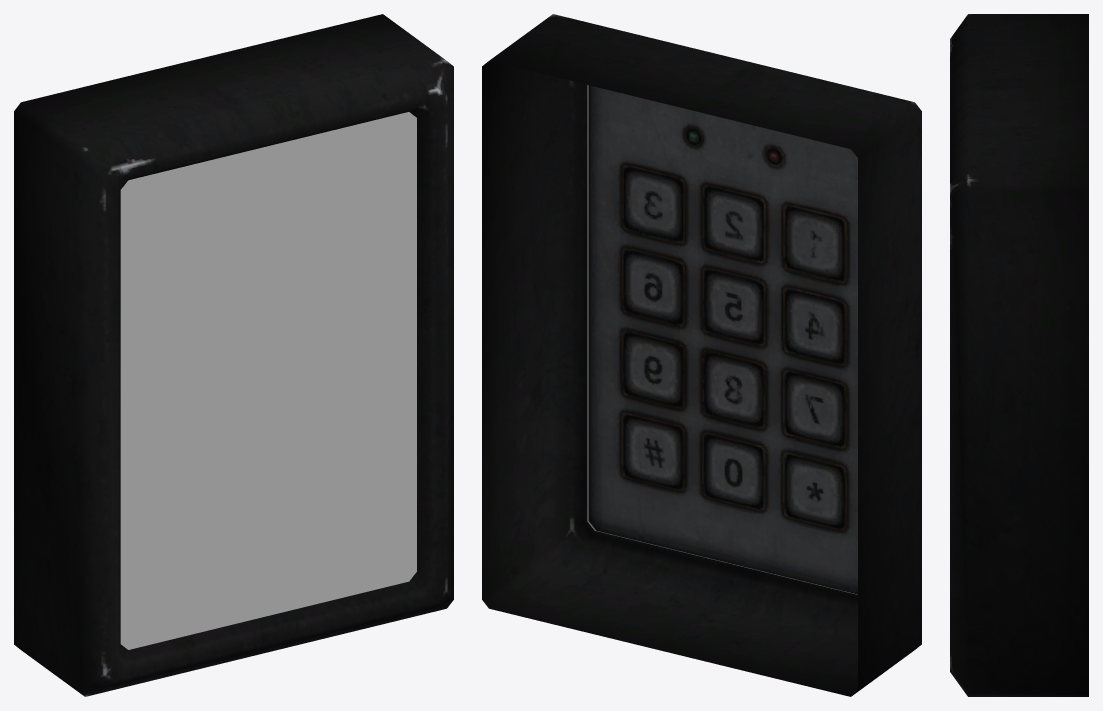
File: security_keypad.dae
3 renders of one model, left to right at view 1: azimuth 30°, elevation 25°; view 2: azimuth 150°, elevation 25°; view 3: azimuth 270°, elevation 25°, orthographic. The views are drawn at different scales.
Visible parts, largest first — view 1: GUI, keypad; view 2: keypad, GUI; view 3: keypad.
Part boxes in pixels (left/top/right/bottom): GUI: left=120, top=112, right=416, bottom=649; keypad: left=14, top=14, right=453, bottom=696; keypad: left=482, top=14, right=921, bottom=696; GUI: left=587, top=85, right=857, bottom=594; keypad: left=950, top=14, right=1088, bottom=696.
Size of the model in its own units: 0.1824 by 0.254 by 0.0619.
